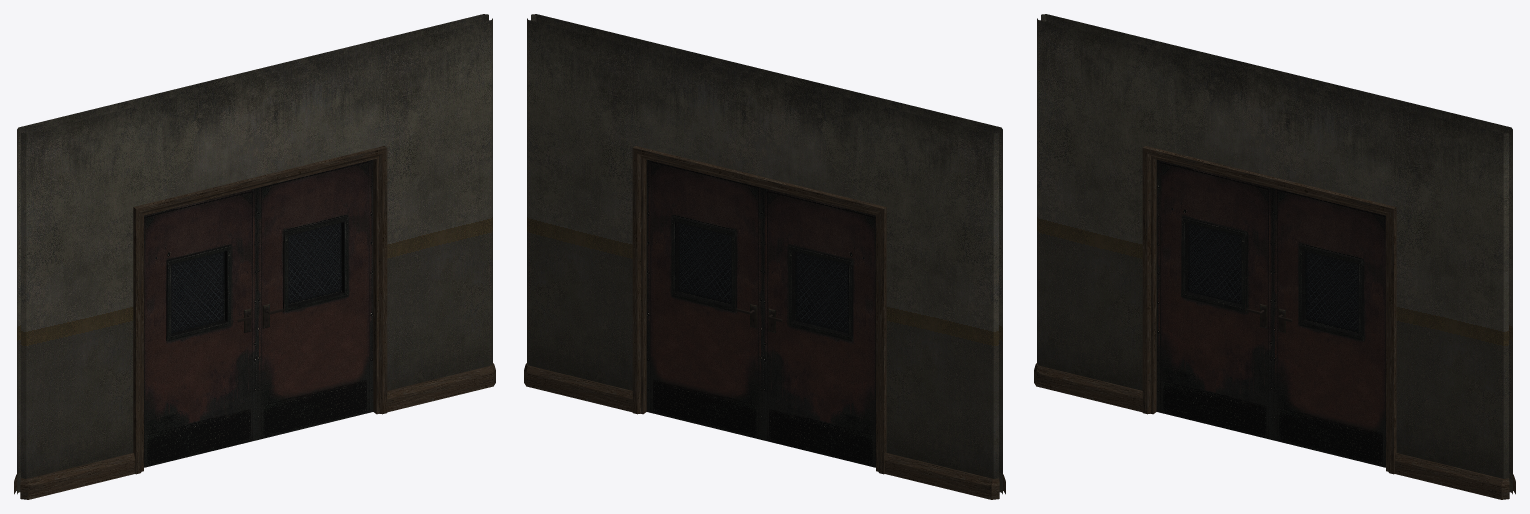
File: doorway_2_wide.glb
The picture shows the model from 3 angles, left to right: view 1: azimuth 30°, elevation 25°; view 2: azimuth 150°, elevation 25°; view 3: azimuth 330°, elevation 25°; orthographic projection.
Parts seen in each view (by area): view 1: doorway_2_wide, double_door_4_piece_2, double_door_4_piece_1; view 2: doorway_2_wide, double_door_4_piece_2, double_door_4_piece_1; view 3: doorway_2_wide, double_door_4_piece_1, double_door_4_piece_2.
Boxes of the visible parts, bbox=[...] form: doorway_2_wide: bbox=[14, 14, 495, 499]; double_door_4_piece_2: bbox=[257, 159, 373, 440]; double_door_4_piece_1: bbox=[144, 188, 256, 467]; doorway_2_wide: bbox=[524, 14, 1005, 499]; double_door_4_piece_2: bbox=[646, 159, 762, 440]; double_door_4_piece_1: bbox=[763, 188, 875, 467]; doorway_2_wide: bbox=[1034, 14, 1515, 499]; double_door_4_piece_1: bbox=[1156, 159, 1272, 440]; double_door_4_piece_2: bbox=[1273, 188, 1385, 467].
Size of the model in its own units: 4.09 by 3 by 0.2.
Materials: 5 (5 with a texture image).
